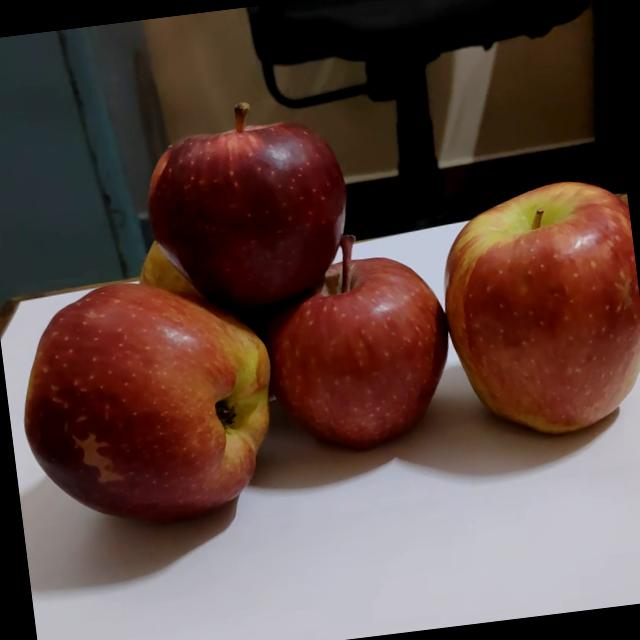apple: (8, 270, 295, 548), (433, 176, 640, 456), (134, 93, 370, 332), (258, 224, 470, 473), (129, 230, 230, 320)
